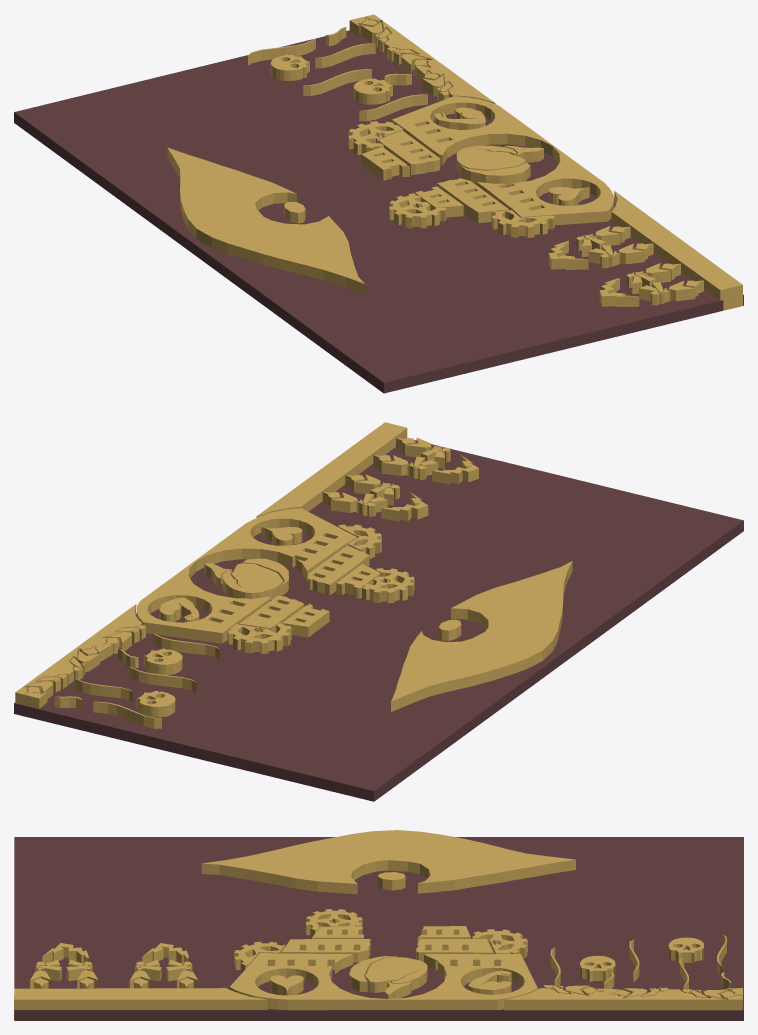
The model's file is fresque_4.fbx.
3 views of the same model, one above another, from view 1: azimuth 30°, elevation 25°; view 2: azimuth 150°, elevation 25°; view 3: azimuth 270°, elevation 25° (orthographic).
Parts seen in each view (by area): view 1: Plane.001, Cube.001; view 2: Plane.001, Cube.001; view 3: Plane.001, Cube.001.
Boxes of the visible parts, x1=… form: Plane.001: x1=14, y1=30, x2=743, y2=393; Cube.001: x1=167, y1=14, x2=742, y2=310; Plane.001: x1=14, y1=440, x2=743, y2=801; Cube.001: x1=15, y1=422, x2=572, y2=728; Plane.001: x1=14, y1=837, x2=743, y2=1020; Cube.001: x1=14, y1=830, x2=742, y2=1019.
Bounding box in the file's own units: 281 × 16.1 × 500.
